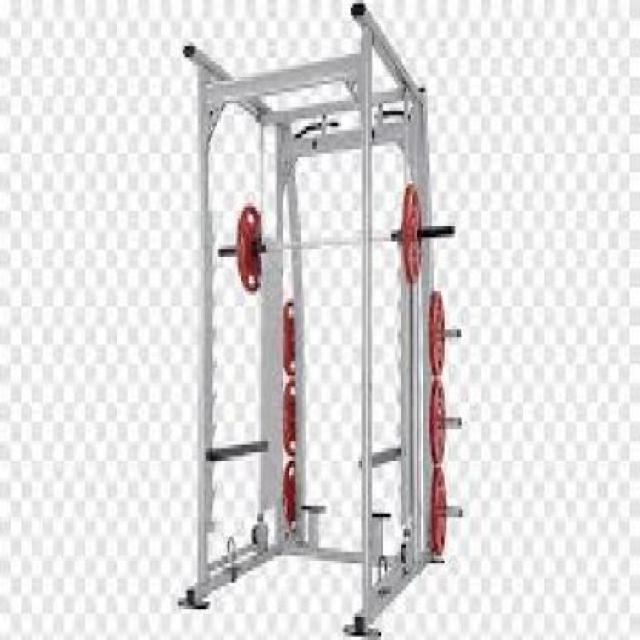smith machine: (183, 3, 465, 634)
